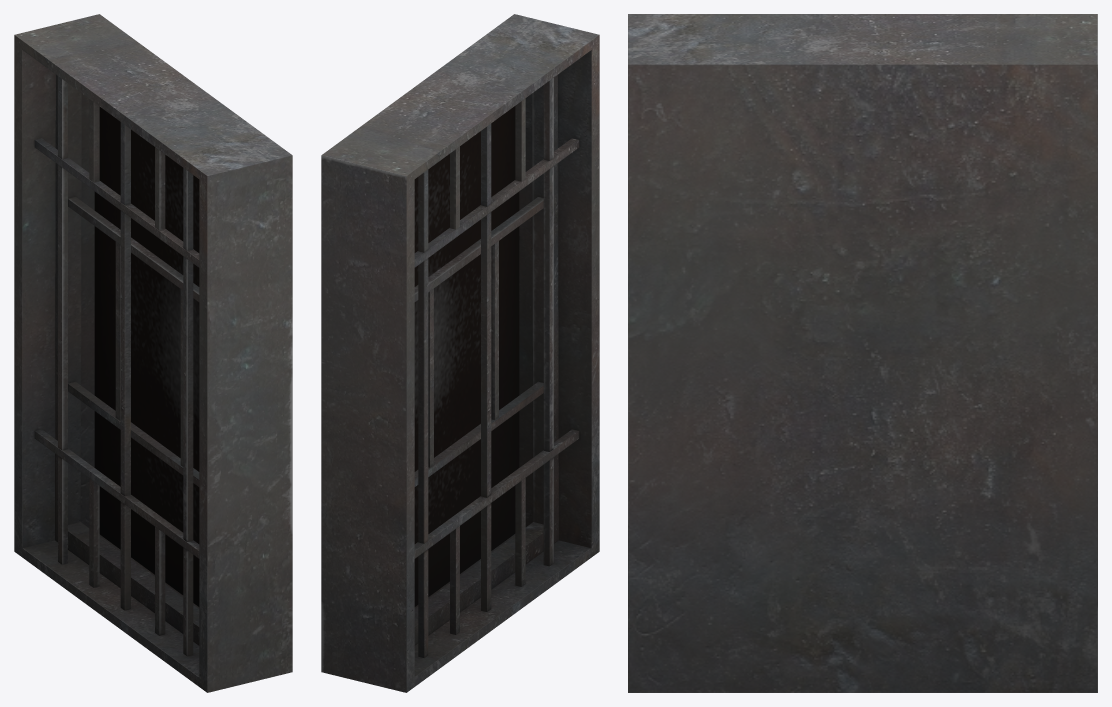
Rendered from prison_cell_window_bar.glb.
3 views of the same model, side by side, from view 1: azimuth 30°, elevation 25°; view 2: azimuth 150°, elevation 25°; view 3: azimuth 270°, elevation 25° (orthographic). The views are drawn at different scales.
Parts seen in each view (by area): view 1: polySurface24, polySurface25, polySurface15, polySurface18, polySurface11, polySurface19, polySurface12, polySurface23, polySurface21, polySurface14, polySurface17, polySurface22 (+3 smaller); view 2: polySurface24, polySurface25, polySurface15, polySurface11, polySurface18, polySurface19, polySurface12, polySurface23, polySurface21, polySurface20, polySurface17, polySurface22 (+3 smaller); view 3: polySurface24.
Part boxes in pixels (x1,y1,x2,y2): polySurface24: (14,14,292,692); polySurface25: (55,75,199,645); polySurface15: (120,122,130,610); polySurface18: (183,168,193,656); polySurface11: (58,76,67,564); polySurface19: (34,429,199,558); polySurface12: (34,138,199,267); polySurface23: (68,197,199,301); polySurface21: (68,381,199,486); polySurface14: (89,479,99,587); polySurface17: (155,527,165,635); polySurface22: (115,241,120,420); polySurface24: (321,14,599,692); polySurface25: (414,75,558,645); polySurface15: (481,123,491,611); polySurface11: (418,170,428,657); polySurface18: (543,78,553,566); polySurface19: (414,429,579,558); polySurface12: (414,138,579,267); polySurface23: (414,197,543,301); polySurface21: (414,381,543,486); polySurface20: (491,241,498,419); polySurface17: (515,478,525,586); polySurface22: (428,288,433,467); polySurface24: (628,14,1097,692).
Size of the model in its own units: 0.4648 by 2.69 by 1.82.
Materials: 1 (1 with a texture image).
